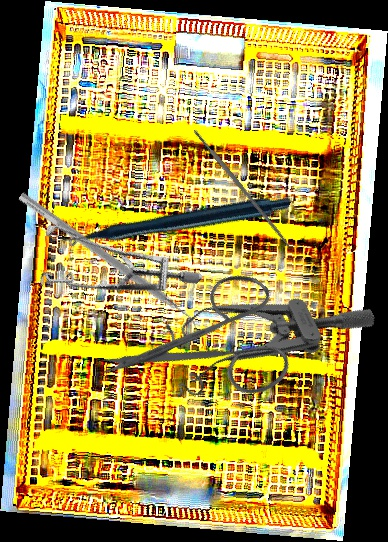Handpiece: (52, 110, 292, 326)
Iris Scissors: (92, 233, 323, 466)
Scalpel Handle: (192, 127, 292, 249)
Spatula Surgical: (12, 191, 204, 334)
Speculum: (146, 240, 378, 417), (15, 176, 204, 363)
